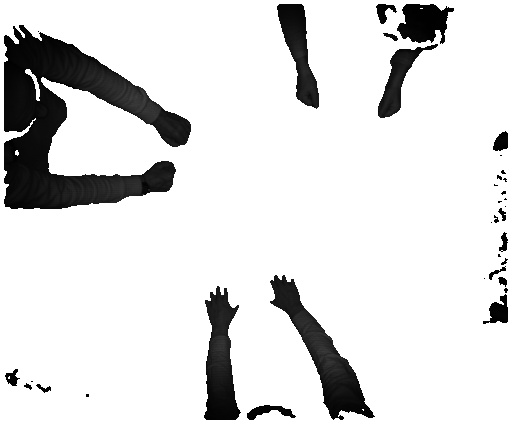fist: (155, 113, 191, 151), (144, 160, 175, 199), (376, 89, 407, 119), (296, 74, 319, 111)
hand: (200, 280, 239, 331), (264, 272, 304, 316)
